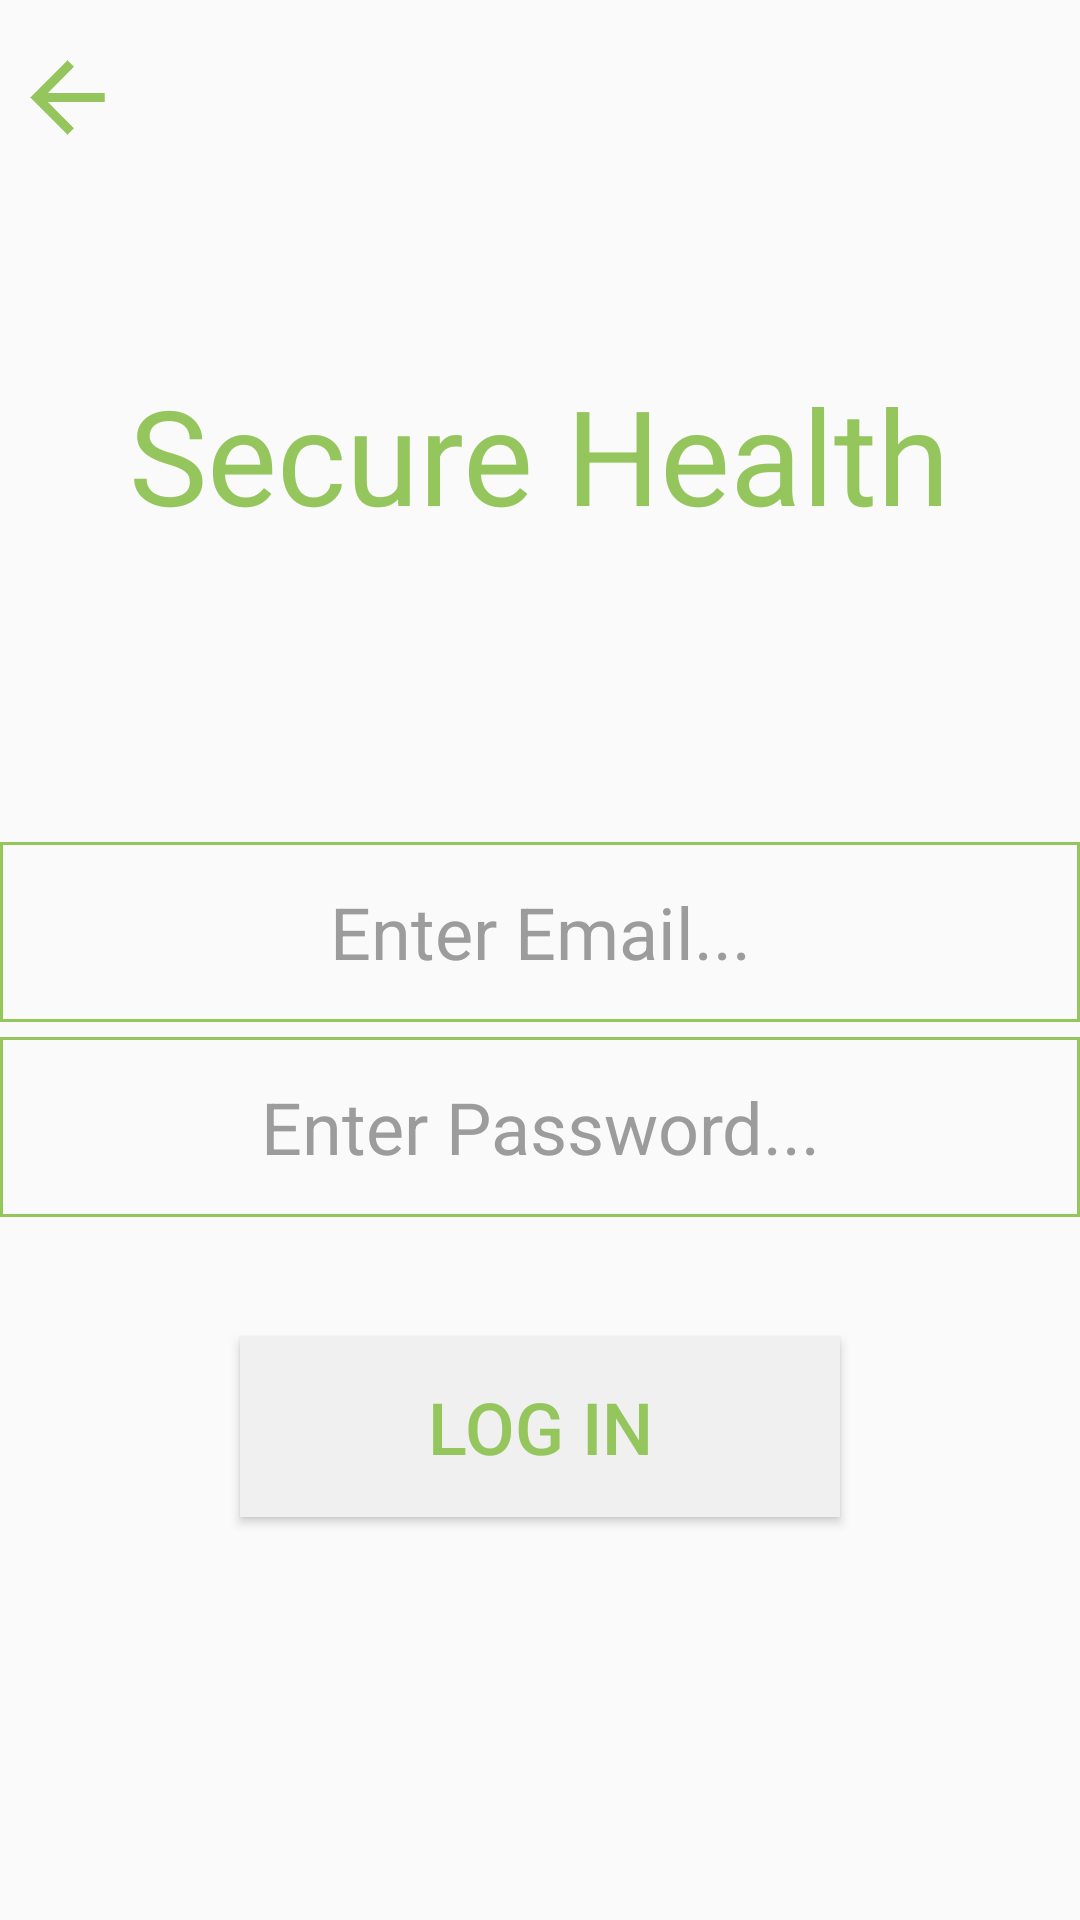

Point at icon controls on the screen. Image size 1080*1920, points as (x=x, y=y).
back: (x=67, y=97)
